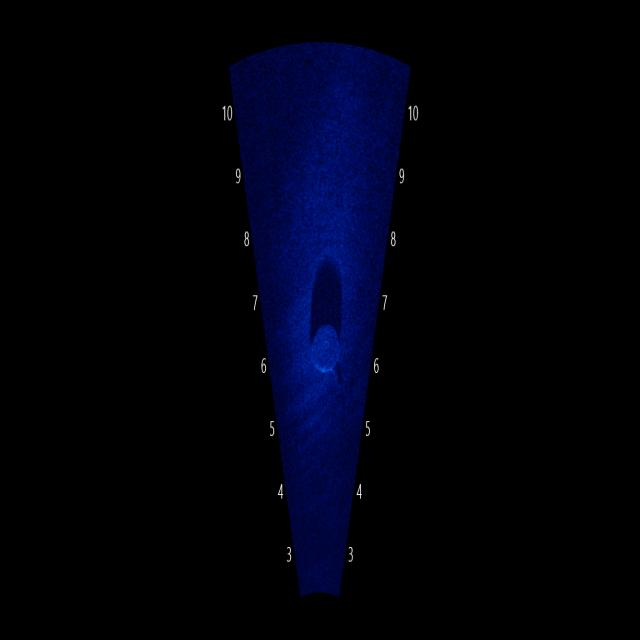circle: (294, 297, 354, 402)
